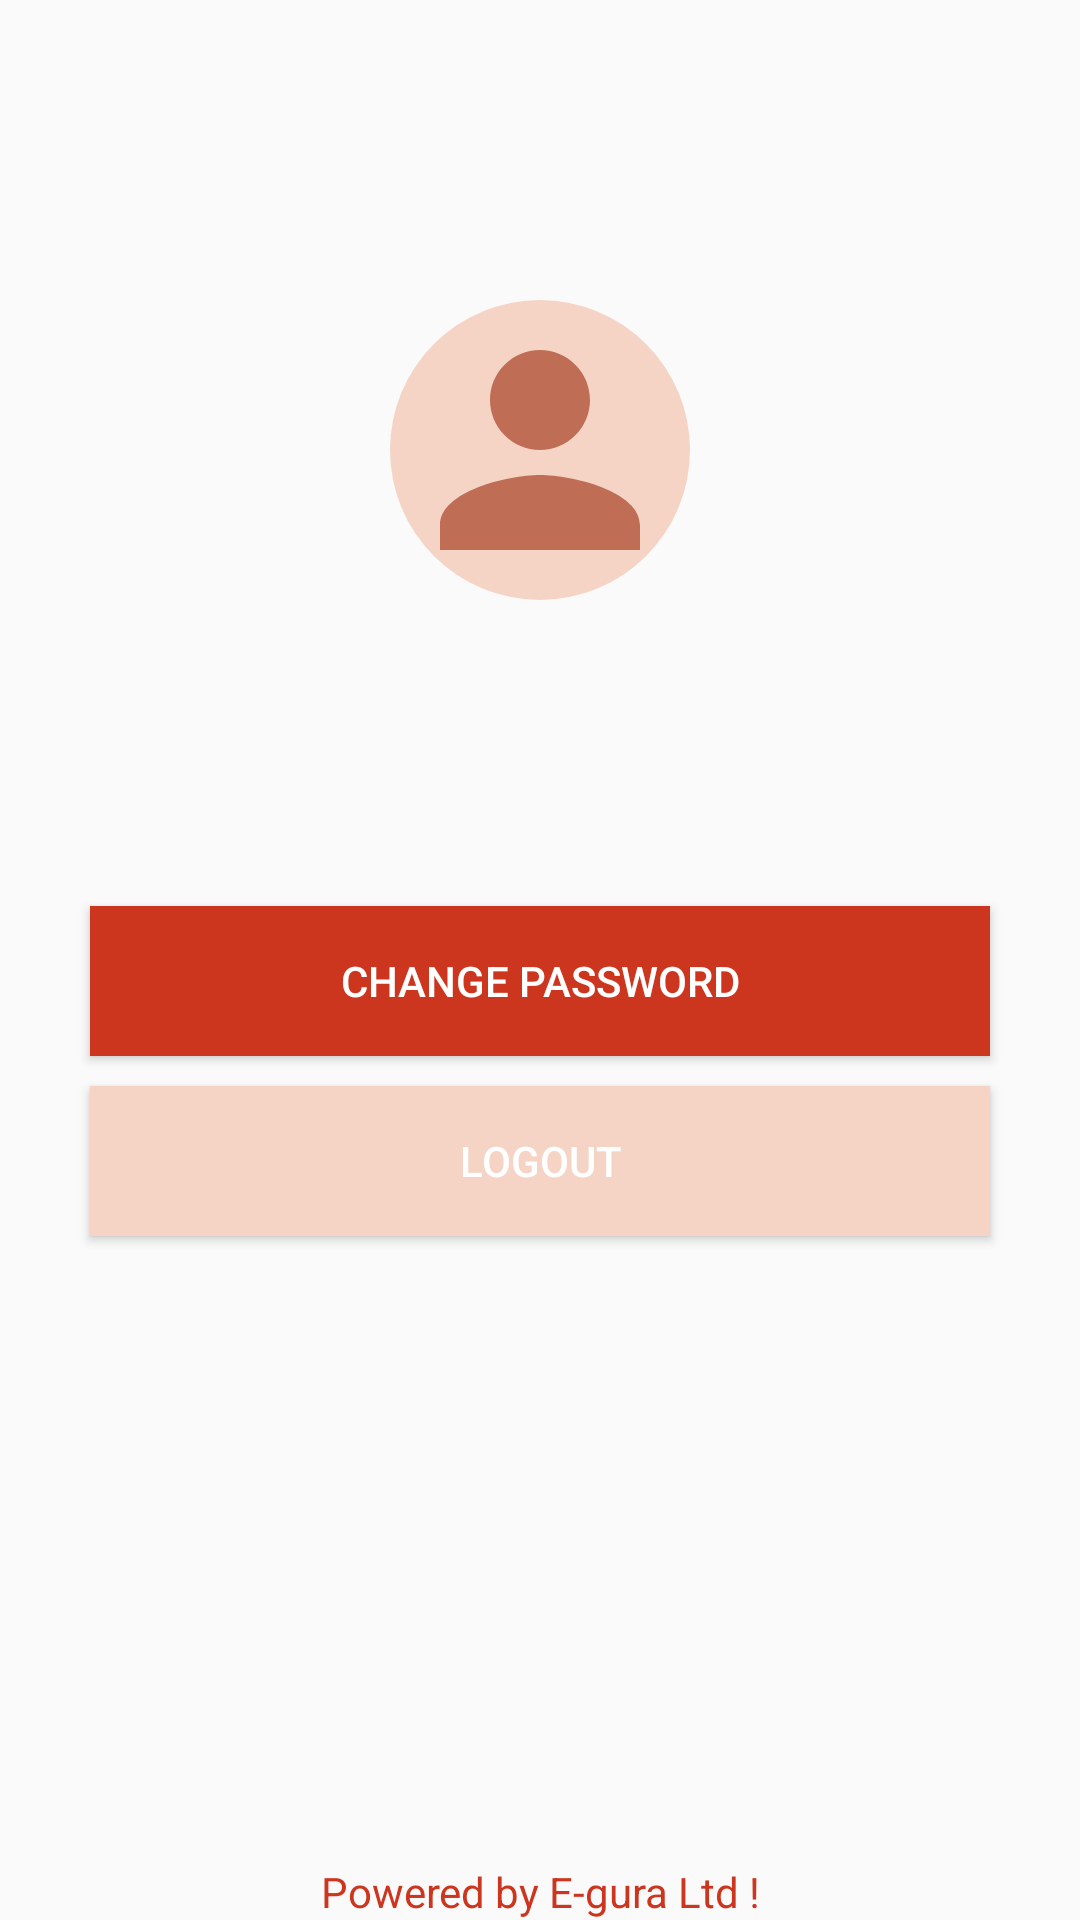

Screen size 1080*1920. Icon name, then its box in pixels as (x1, y1, x2, y2):
profile: (390, 300, 690, 600)
